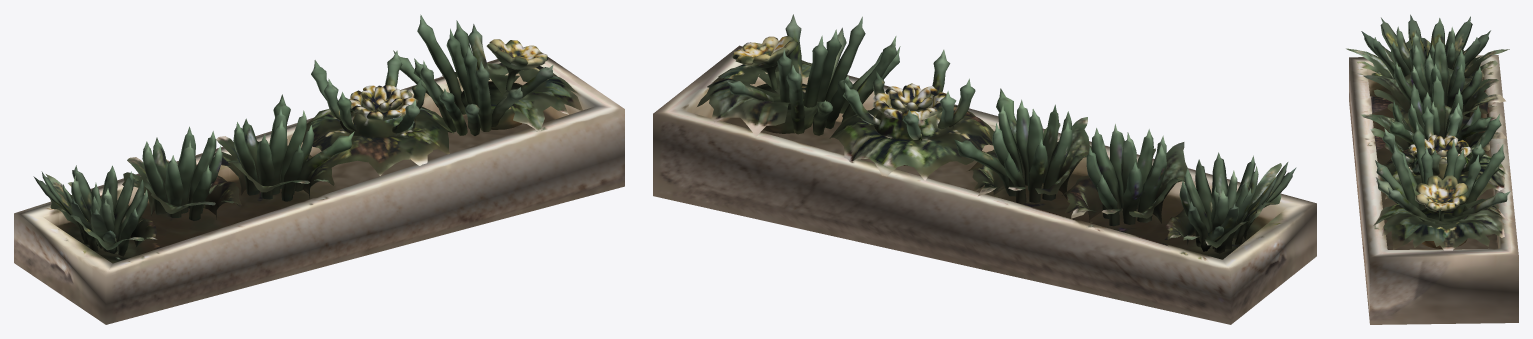
File: act1_kit_v1_walled_flower_bed.glb
The picture shows the model from 3 angles, left to right: view 1: azimuth 30°, elevation 25°; view 2: azimuth 150°, elevation 25°; view 3: azimuth 270°, elevation 25°; orthographic projection. The views are drawn at different scales.
Visible parts, largest first — view 1: act1_kit_v1_walled_flower_bed; view 2: act1_kit_v1_walled_flower_bed; view 3: act1_kit_v1_walled_flower_bed.
Boxes of the visible parts, x1,y1,x2,y2 form: act1_kit_v1_walled_flower_bed: [14, 14, 624, 324]; act1_kit_v1_walled_flower_bed: [653, 14, 1316, 324]; act1_kit_v1_walled_flower_bed: [1346, 14, 1518, 324].
Size of the model in its own units: 1 by 0.2742 by 0.3238.
Materials: 1 (1 with a texture image).
